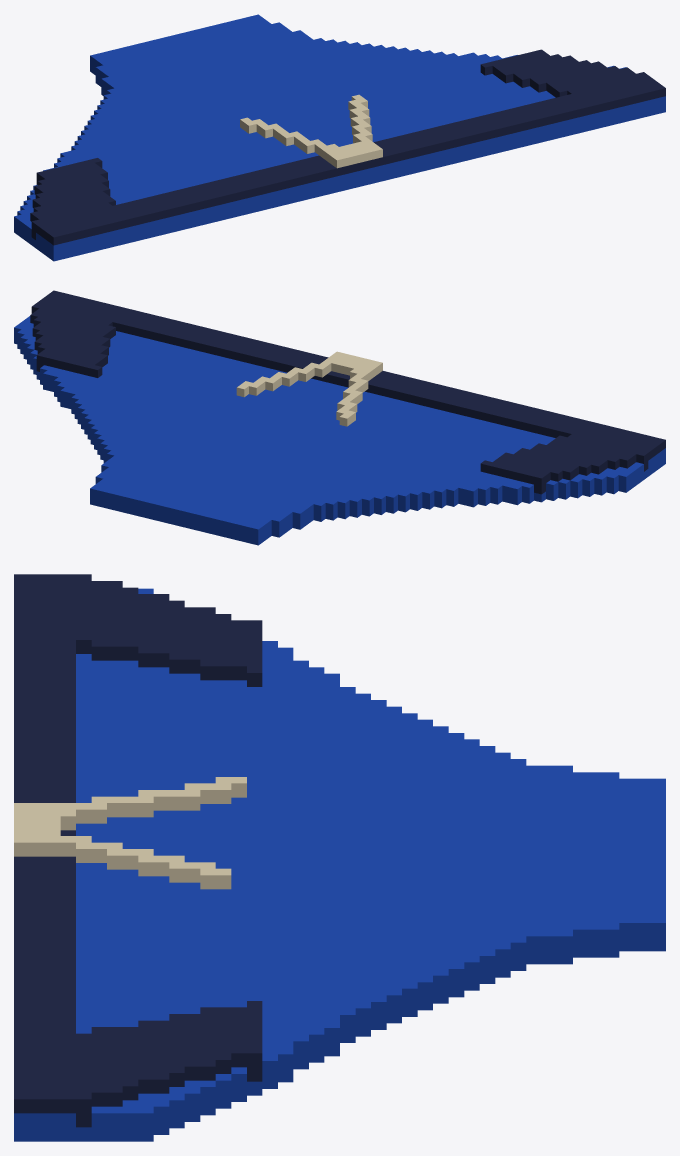
File: swim_briefs.glb
3 views of the same model, one above another, from view 1: azimuth 30°, elevation 25°; view 2: azimuth 150°, elevation 25°; view 3: azimuth 270°, elevation 25° (orthographic). The views are drawn at different scales.
Parts seen in each view (by area): view 1: swim_briefs:compound; view 2: swim_briefs:compound; view 3: swim_briefs:compound.
Boxes of the visible parts, bbox=[...] form: swim_briefs:compound: bbox=[14, 14, 665, 261]; swim_briefs:compound: bbox=[14, 290, 665, 545]; swim_briefs:compound: bbox=[14, 574, 665, 1141].
Size of the model in its own units: 0.32 by 0.016 by 0.168.
